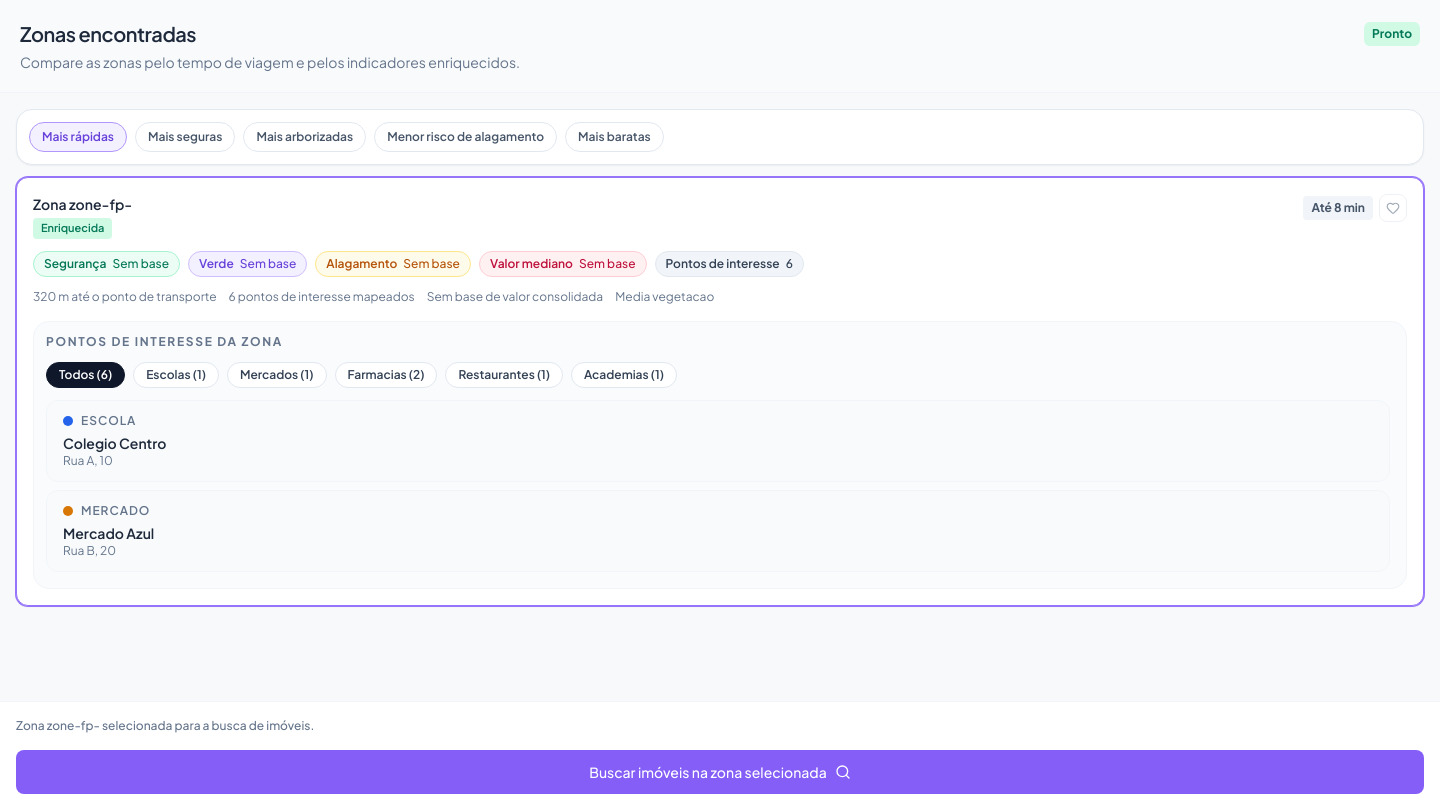
Test: Step4Compare › filters the zone POI list by category
Expected: the text "Colegio Centro" is shown, [63,434,166,452]
Expected: the text "Mercado Azul" is shown, [63,524,154,542]
Step 1. Click the button "Farmacias (2)" → (386, 374), box [334,362,438,388]
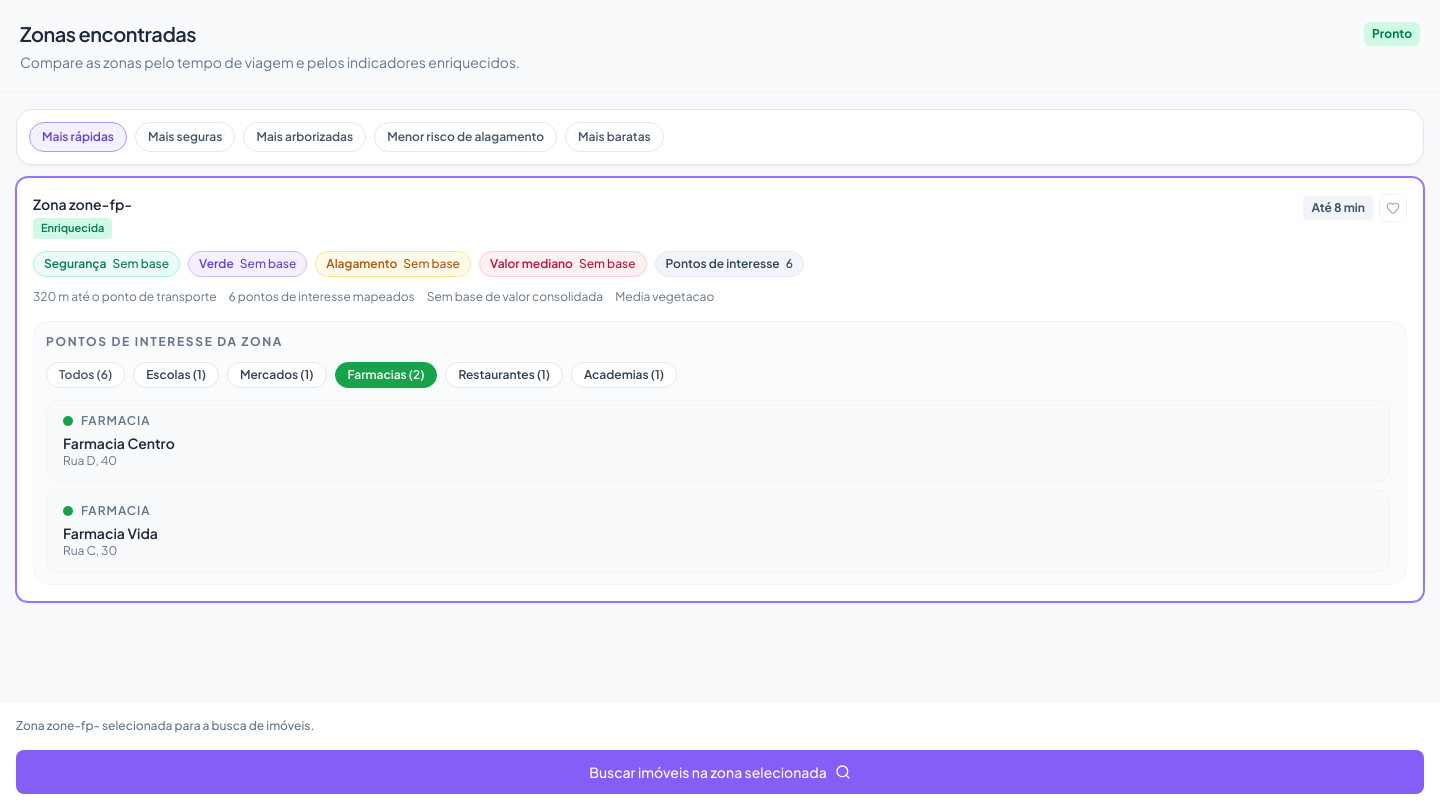
Now the text "Farmacia Vida" is shown, box [63,524,158,542]
Now the text "Farmacia Centro" is shown, box [63,434,175,452]
Now the button "Colegio Centro" is gone
